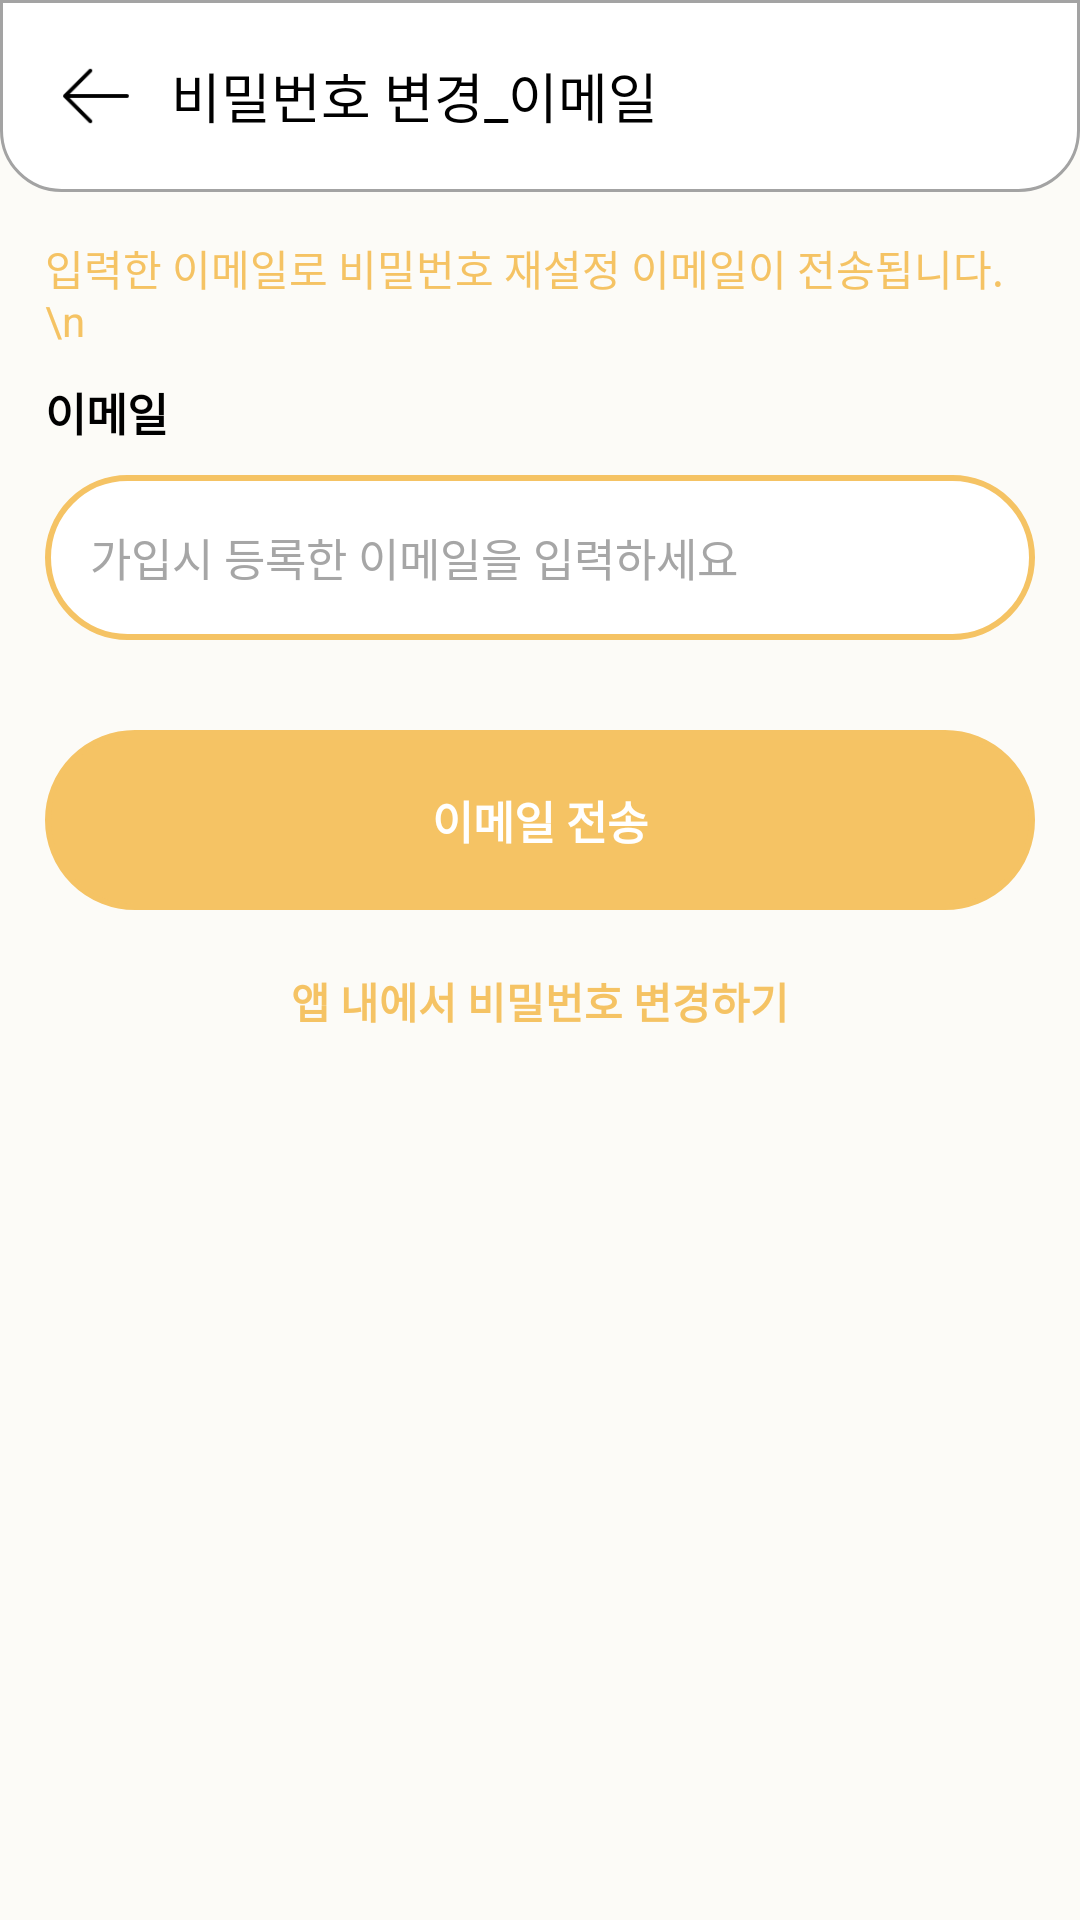

Point at icon controls on the screen. Image size 1080 × 1920, points as (x,y).
back: (96,96)
